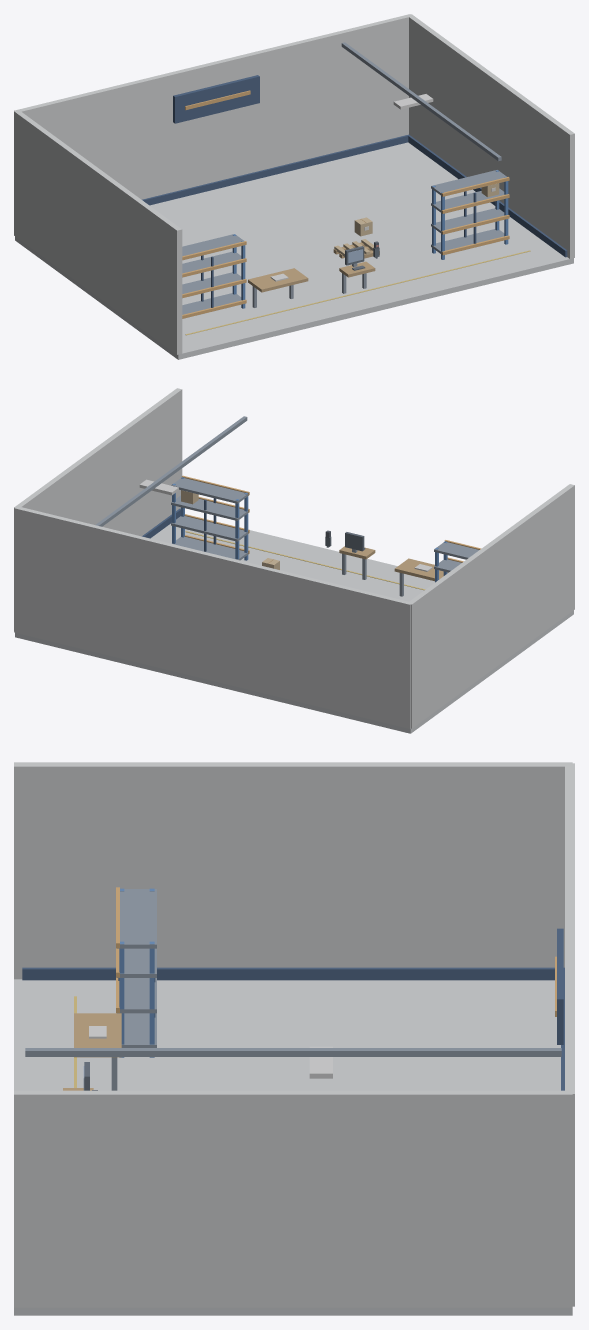
The model's file is nusantara_mart_warehouse.glb.
3 renders of one model, top to bottom at view 1: azimuth 30°, elevation 25°; view 2: azimuth 150°, elevation 25°; view 3: azimuth 270°, elevation 25°, orthographic. The views are drawn at different scales.
Visible parts, largest first — view 1: floor_000_Warehouse_floor, walls_000_Back_wall, walls_001_Left_wall, walls_002_Right_wall, sign_000_Warehouse_sign, trim_000_Wall_trim, ceiling_000_Ceiling_beam, trim_002_Wall_trim, inspection_000_Inspection_table, rack_right_010_Shelf_level, marking_000_Safety_line, rack_right_006_Shelf_level (+6 smaller); view 2: walls_000_Back_wall, walls_001_Left_wall, walls_002_Right_wall, floor_000_Warehouse_floor, ceiling_000_Ceiling_beam, rack_right_010_Shelf_level, rack_right_006_Shelf_level, rack_right_008_Shelf_level, rack_right_004_Shelf_level, inspection_000_Inspection_table, rack_left_010_Shelf_level; view 3: walls_002_Right_wall, walls_001_Left_wall, floor_000_Warehouse_floor, trim_001_Wall_trim, ceiling_000_Ceiling_beam, walls_000_Back_wall, rack_left_010_Shelf_level, inspection_000_Inspection_table, rack_left_006_Shelf_level, rack_left_004_Shelf_level, rack_left_008_Shelf_level, sign_000_Warehouse_sign.
Part boxes in pixels (box(x1,y1,x2,y2)): floor_000_Warehouse_floor: box(15, 142, 573, 359); walls_000_Back_wall: box(14, 14, 411, 199); walls_001_Left_wall: box(14, 110, 182, 354); walls_002_Right_wall: box(407, 14, 574, 258); sign_000_Warehouse_sign: box(173, 75, 259, 123); trim_000_Wall_trim: box(142, 134, 409, 205); ceiling_000_Ceiling_beam: box(341, 42, 501, 161); trim_002_Wall_trim: box(408, 135, 567, 257); inspection_000_Inspection_table: box(248, 268, 308, 292); rack_right_010_Shelf_level: box(431, 170, 506, 195); marking_000_Safety_line: box(185, 250, 530, 335); rack_right_006_Shelf_level: box(431, 208, 504, 234); walls_000_Back_wall: box(14, 506, 412, 728); walls_001_Left_wall: box(409, 484, 574, 728); walls_002_Right_wall: box(14, 388, 182, 631); floor_000_Warehouse_floor: box(15, 523, 573, 733); ceiling_000_Ceiling_beam: box(95, 416, 247, 526); rack_right_010_Shelf_level: box(171, 478, 248, 503); rack_right_006_Shelf_level: box(171, 516, 248, 541); rack_right_008_Shelf_level: box(171, 495, 248, 520); rack_right_004_Shelf_level: box(172, 537, 248, 560); inspection_000_Inspection_table: box(394, 558, 448, 581); rack_left_010_Shelf_level: box(434, 542, 478, 559); walls_002_Right_wall: box(14, 1090, 572, 1307); walls_001_Left_wall: box(14, 762, 572, 979); floor_000_Warehouse_floor: box(14, 979, 572, 1315); trim_001_Wall_trim: box(22, 967, 554, 980); ceiling_000_Ceiling_beam: box(25, 1048, 561, 1056); walls_000_Back_wall: box(565, 763, 574, 1306); rack_left_010_Shelf_level: box(117, 889, 156, 948); inspection_000_Inspection_table: box(74, 1013, 121, 1057); rack_left_006_Shelf_level: box(117, 978, 156, 1013); rack_left_004_Shelf_level: box(121, 1013, 156, 1047); rack_left_008_Shelf_level: box(117, 948, 156, 977); sign_000_Warehouse_sign: box(557, 928, 563, 1044).
Size of the model in its own units: 14.08 by 4.38 by 10.04.
